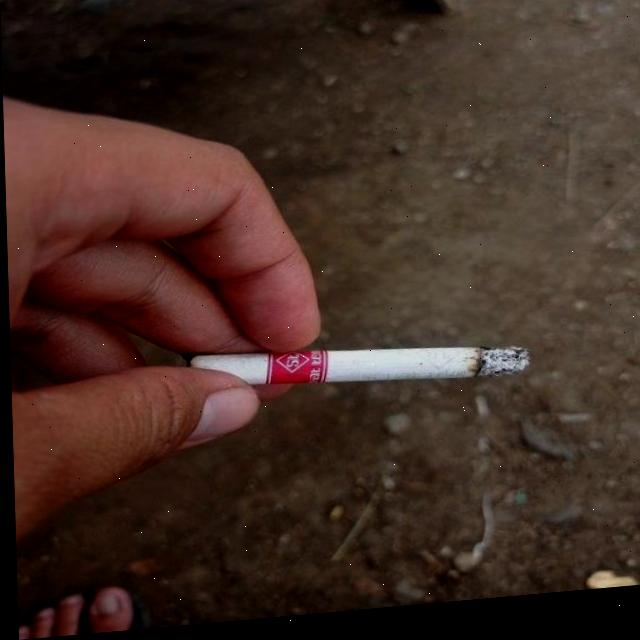cigarette: (188, 335, 529, 404)
